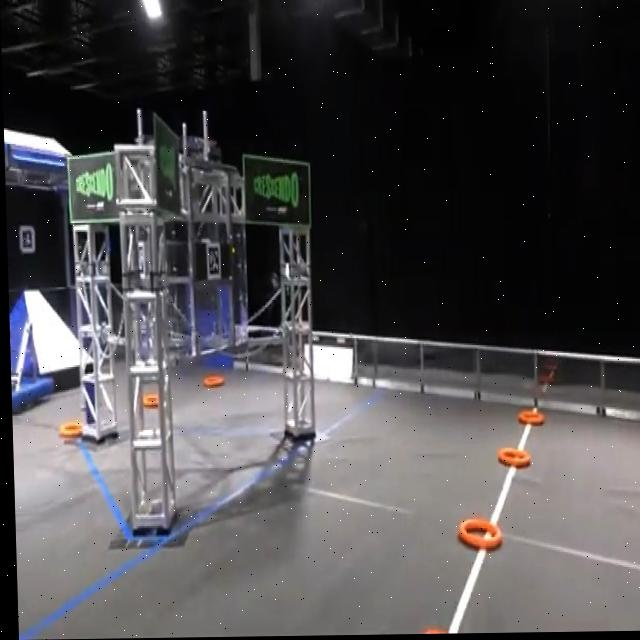note: (455, 518, 500, 553), (495, 447, 528, 470), (515, 412, 543, 429), (57, 423, 79, 439), (201, 375, 223, 389), (141, 395, 156, 407)
robot: (8, 320, 53, 414)
